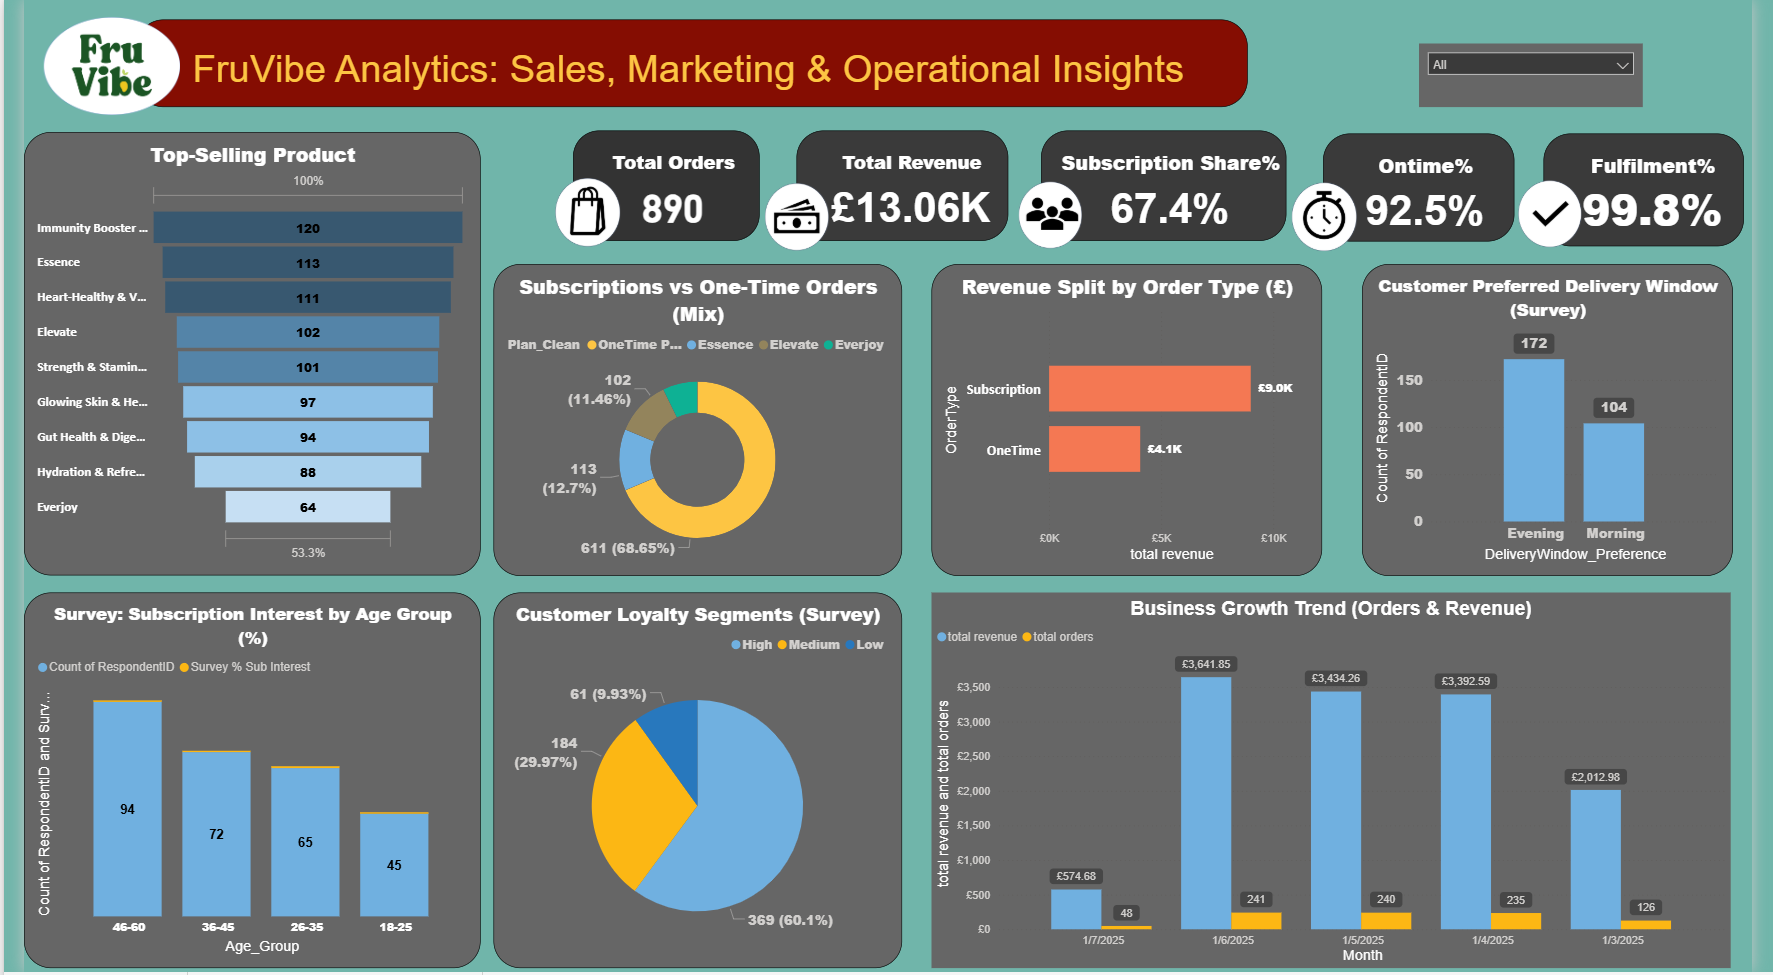

The dashboard page shown, as its layout file describes it:
{"tool":"powerbi","page":{"name":"Executive summary","canvas":[1920,1080],"ordinal":0},"visuals":[{"type":"card","title":"Total Orders","fields":{"Values":["orders_clean.total orders"]},"box":[610,145,207.5,122.5],"z":0},{"type":"card","title":"Total Revenue","fields":{"Values":["orders_clean.total revenue"]},"box":[857.5,145,235,122.5],"z":1000},{"type":"card","title":"Ontime%","fields":{"Values":["orders_clean.OnTime %"]},"box":[1442.5,147.5,212.5,120],"z":2000},{"type":"card","title":"Subscription Share%","fields":{"Values":["survey_clean.Survey % Sub Interest"]},"box":[1130,145,272.5,122.5],"z":3000},{"type":"card","title":"Fulfilment%","fields":{"Values":["orders_clean.Fulfillment %"]},"box":[1687.5,147.5,222.5,125],"z":4000},{"type":"donutChart","title":"Subscriptions vs One-Time Orders (Mix)","fields":{"Y":["CountNonNull(orders_clean.OrderID)"],"Category":["orders_clean.Plan_Clean"]},"box":[522.1,292.8,453.8,346.5],"z":5000},{"type":"funnel","title":"Top-Selling Product","fields":{"Category":["orders_clean.Product"],"Y":["CountNonNull(orders_clean.OrderID)"]},"box":[0,146.4,507.5,492.8],"z":6000},{"type":"clusteredBarChart","title":"Revenue Split by Order Type (£)","fields":{"Category":["orders_clean.OrderType"],"Y":["orders_clean.total revenue"]},"box":[1007.6,292.8,434.3,346.5],"z":7000},{"type":"columnChart","title":"Survey: Subscription Interest by Age Group (%)","fields":{"Category":["survey_clean.Age_Group"],"Y":["CountNonNull(survey_clean.RespondentID)","survey_clean.Survey % Sub Interest"]},"box":[0,658.8,507.5,417.2],"z":8000},{"type":"pieChart","title":"Customer Loyalty Segments (Survey)","fields":{"Category":["survey_clean.Loyalty_Segment"],"Y":["Sum(survey_clean.Loyalty_Score)"]},"box":[522.1,658.8,453.8,417.2],"z":9000},{"type":"lineStackedColumnComboChart","title":"Customer Preferred Delivery Window (Survey)","fields":{"Category":["survey_clean.DeliveryWindow_Preference"],"Y":["CountNonNull(survey_clean.RespondentID)"]},"box":[1485.8,292.8,412.3,346.5],"z":10000},{"type":"textbox","box":[124.4,22,1234.5,97.6],"z":11000},{"type":"image","box":[0,0,195.2,146.4],"z":12000},{"type":"image","box":[585,180,82.5,112.5],"z":13000},{"type":"image","box":[802.5,197.5,110,85],"z":14000},{"type":"image","box":[1100,190,80,97.5],"z":15000},{"type":"image","box":[1402.5,195,82.5,92.5],"z":16000},{"type":"image","box":[1655,190,80,95],"z":17000},{"type":"lineClusteredColumnComboChart","title":"Business Growth Trend (Orders & Revenue)","fields":{"Category":["orders_clean.Month"],"Y":["orders_clean.total revenue","orders_clean.total orders"]},"box":[1007.6,658.8,888.1,417.2],"z":18000},{"type":"slicer","fields":{"Values":["orders_clean.Month"]},"box":[1549.3,48.8,248.9,70.8],"z":19001}]}

Visuals, with their boxes in screenshot pixels (x1, y1, x2, y2), scaled from the page's 1920x1080 canvas onto the 1773x975 screenshot:
"Total Orders" card: bbox(563, 131, 755, 241)
"Total Revenue" card: bbox(792, 131, 1009, 241)
"Ontime%" card: bbox(1332, 133, 1528, 241)
"Subscription Share%" card: bbox(1043, 131, 1295, 241)
"Fulfilment%" card: bbox(1558, 133, 1764, 246)
"Subscriptions vs One-Time Orders (Mix)" donutChart: bbox(482, 264, 901, 577)
"Top-Selling Product" funnel: bbox(0, 132, 469, 577)
"Revenue Split by Order Type (£)" clusteredBarChart: bbox(930, 264, 1332, 577)
"Survey: Subscription Interest by Age Group (%)" columnChart: bbox(0, 595, 469, 971)
"Customer Loyalty Segments (Survey)" pieChart: bbox(482, 595, 901, 971)
"Customer Preferred Delivery Window (Survey)" lineStackedColumnComboChart: bbox(1372, 264, 1753, 577)
textbox: bbox(115, 20, 1255, 108)
image: bbox(0, 0, 180, 132)
image: bbox(540, 162, 616, 264)
image: bbox(741, 178, 843, 255)
image: bbox(1016, 172, 1090, 260)
image: bbox(1295, 176, 1371, 260)
image: bbox(1528, 172, 1602, 257)
"Business Growth Trend (Orders & Revenue)" lineClusteredColumnComboChart: bbox(930, 595, 1751, 971)
slicer - orders_clean.Month: bbox(1431, 44, 1661, 108)
